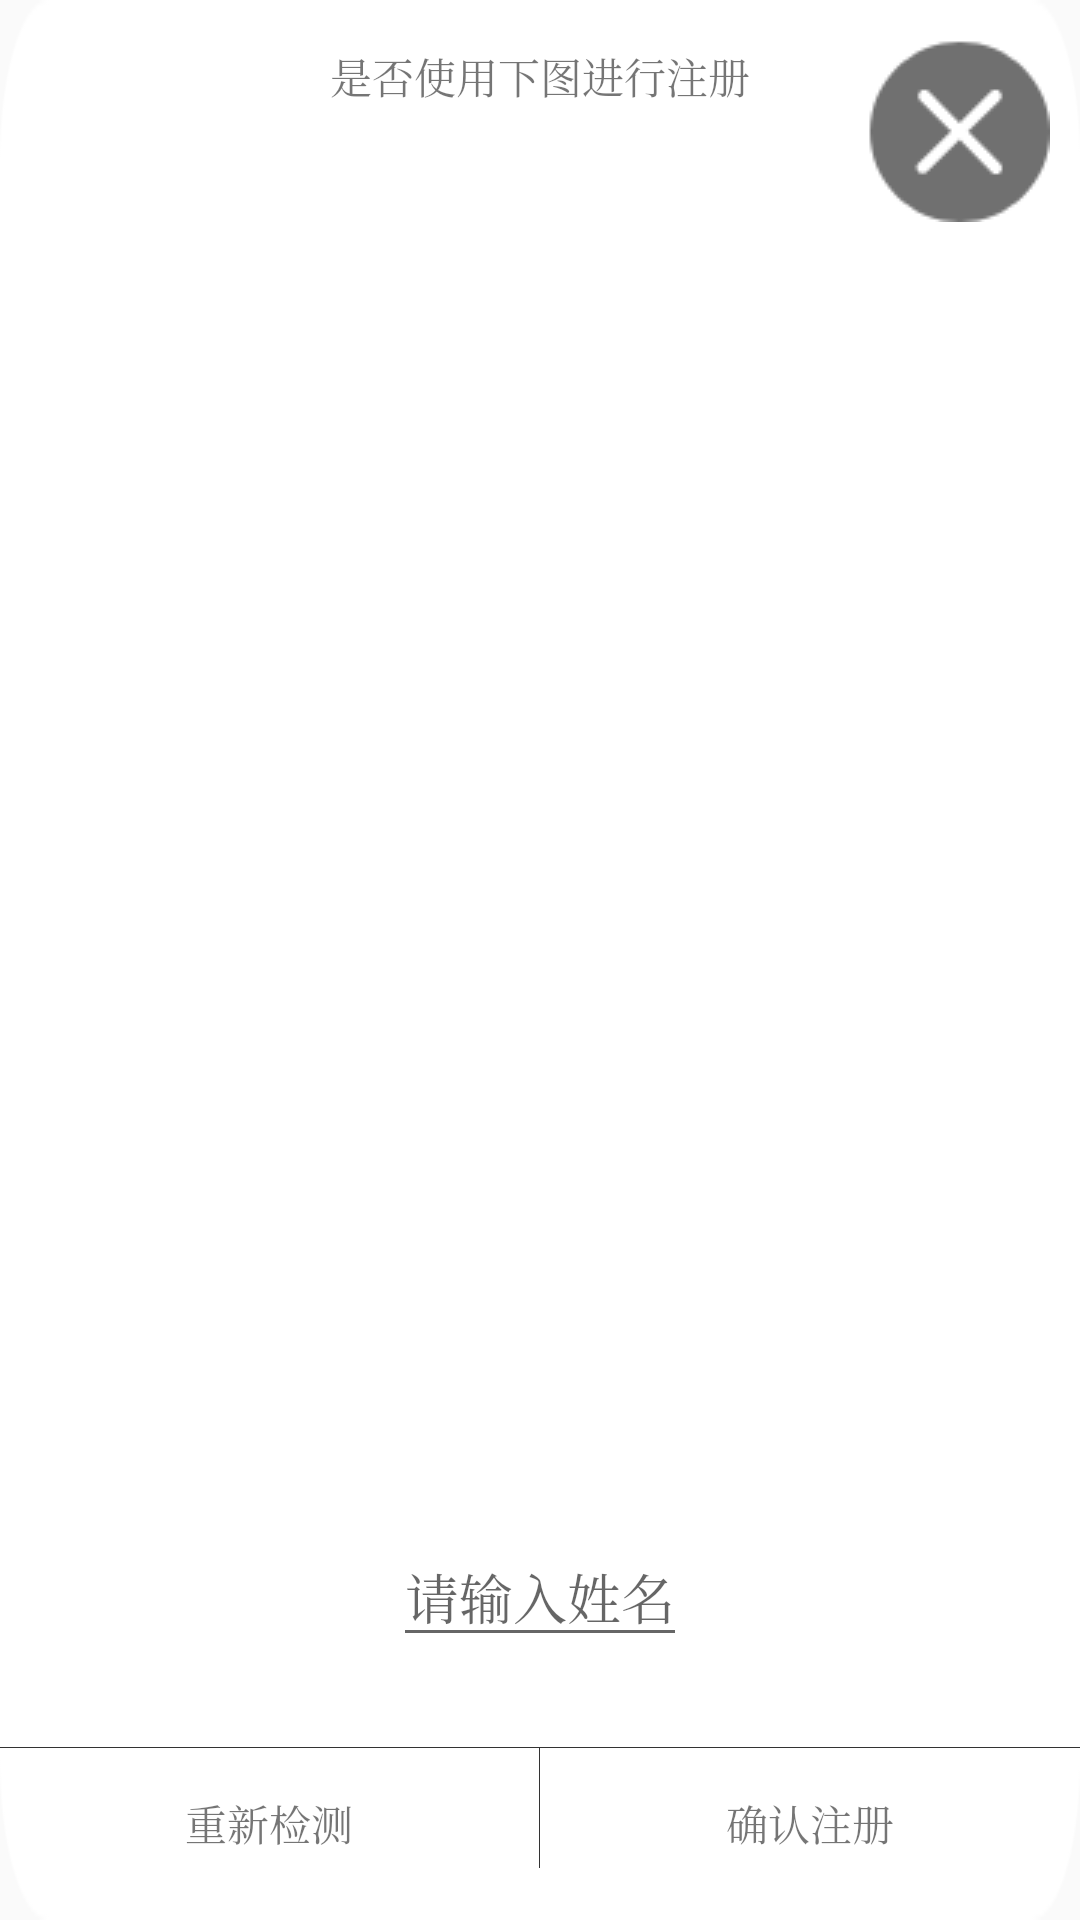

Screen size 1080 × 1920. Icon name, then its box in pixels as bbox=(x1, y1, x2, y2):
exit: bbox=(869, 41, 1050, 222)
